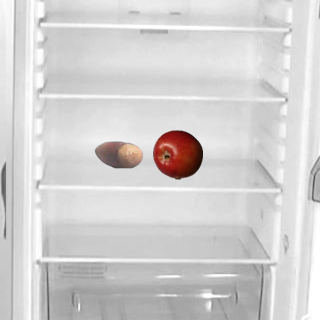Apple Braeburn: (152, 129, 202, 179)
Hazelnut: (93, 129, 143, 179)
